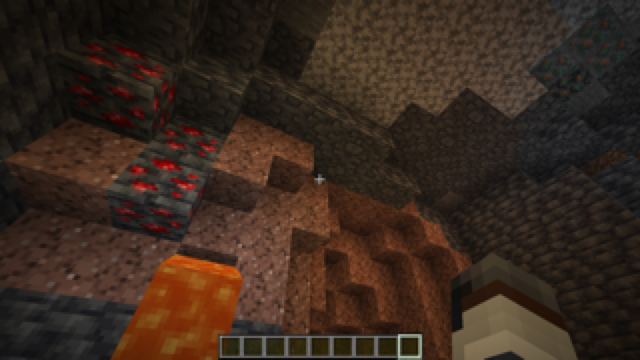copper: (525, 1, 634, 105)
redstone: (72, 29, 220, 249)
